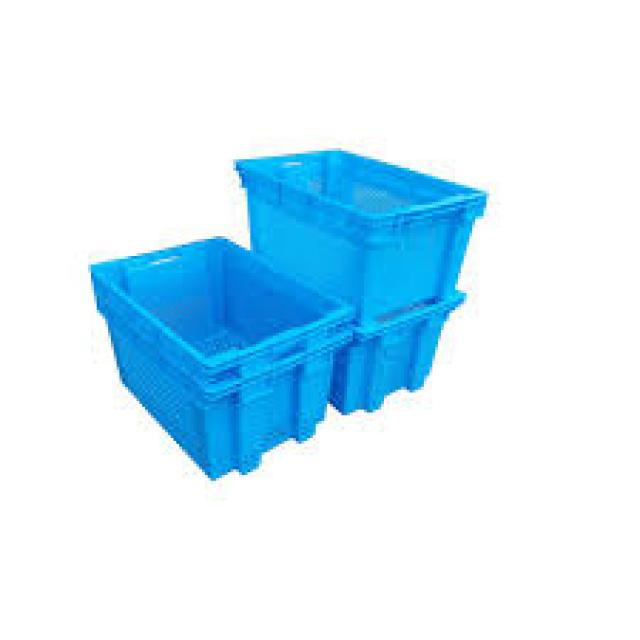basket: (32, 189, 378, 511), (206, 123, 491, 347), (307, 277, 495, 429)
